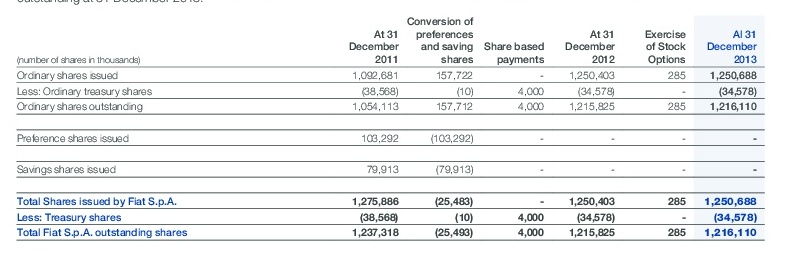table: (0, 0, 785, 256)
